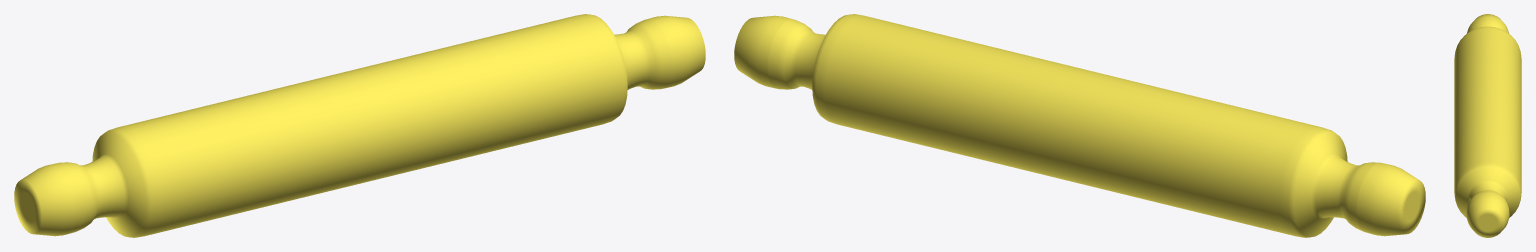
Rendered from roller.fbx.
3 views of the same model, side by side, from view 1: azimuth 30°, elevation 25°; view 2: azimuth 150°, elevation 25°; view 3: azimuth 270°, elevation 25° (orthographic). The views are drawn at different scales.
Visible parts, largest first — view 1: skal.001; view 2: skal.001; view 3: skal.001.
Part boxes in pixels (left/top/right/bottom): skal.001: left=14, top=14, right=705, bottom=237; skal.001: left=734, top=14, right=1425, bottom=237; skal.001: left=1454, top=14, right=1521, bottom=237.
Bounding box in the file's own units: 136 × 20.06 × 20.06.
